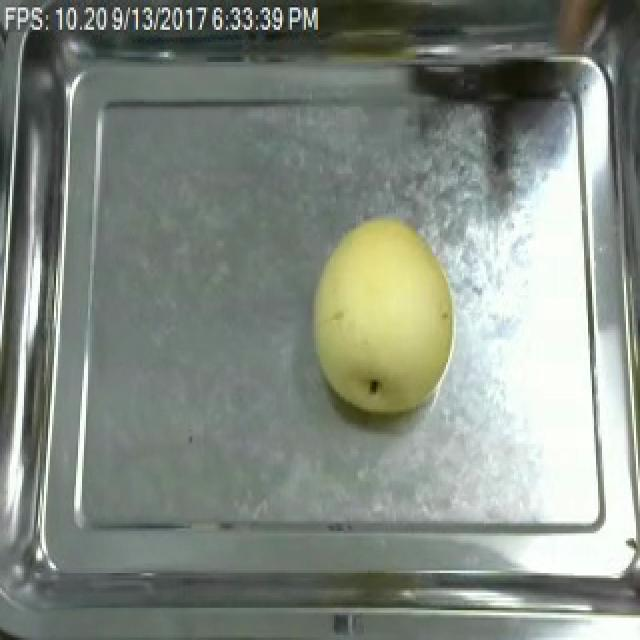Fruit: (302, 208, 464, 424)
